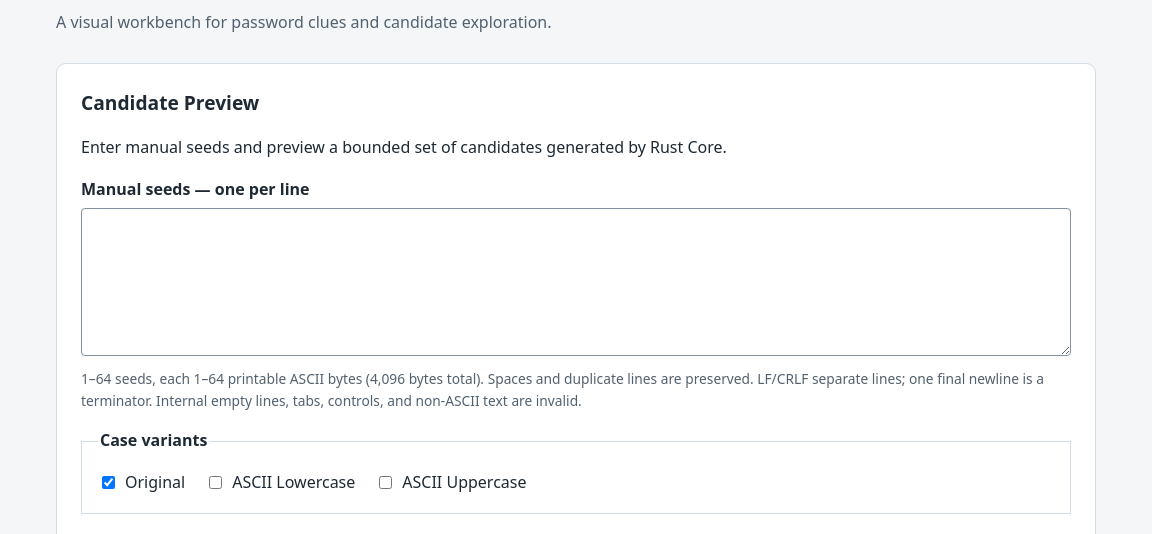
Preview input events before DOM normalization (React component, mock IPC) › cancels native beforeinput carrying invalid raw data for Prefix
Type "kept" into the text box labelled "Manual seeds — one per line" at {"x": 576, "y": 282}, box x1=81 y1=208 x2=1071 y2=356
(page scrolled)
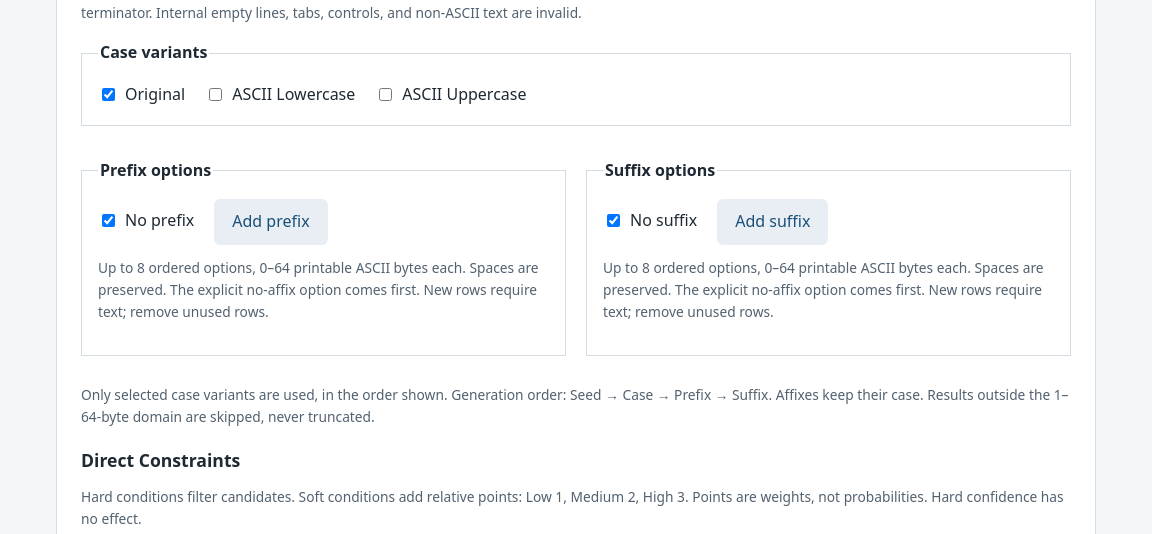
Click the button "Add prefix" at {"x": 271, "y": 222}, box x1=214 y1=199 x2=328 y2=245
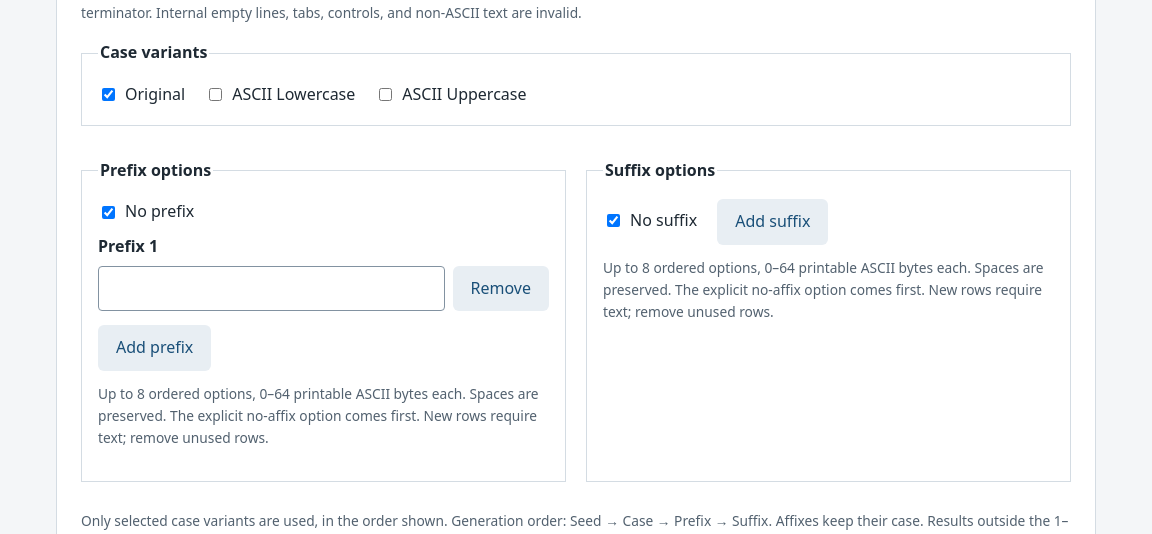
Type "kept" into the field labelled "Prefix 1" at {"x": 271, "y": 289}, box x1=98 y1=266 x2=444 y2=312
(page scrolled)
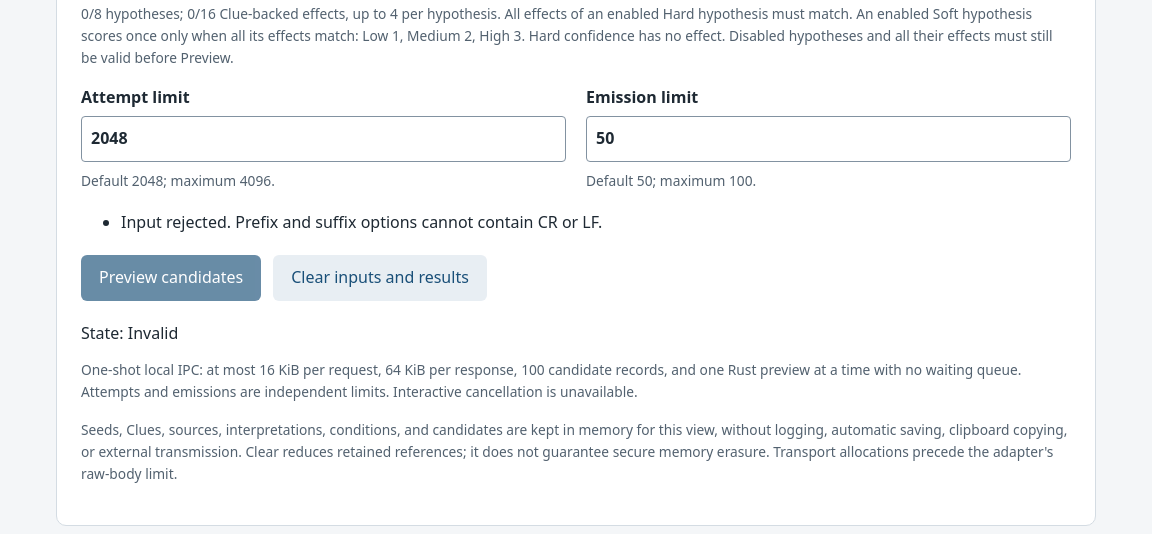
Now the button "Preview candidates" is disabled, box x1=81 y1=255 x2=261 y2=301
Now the message "Input rejected. Prefix and suffix options cannot contain CR or LF." is shown, box x1=121 y1=211 x2=602 y2=233
